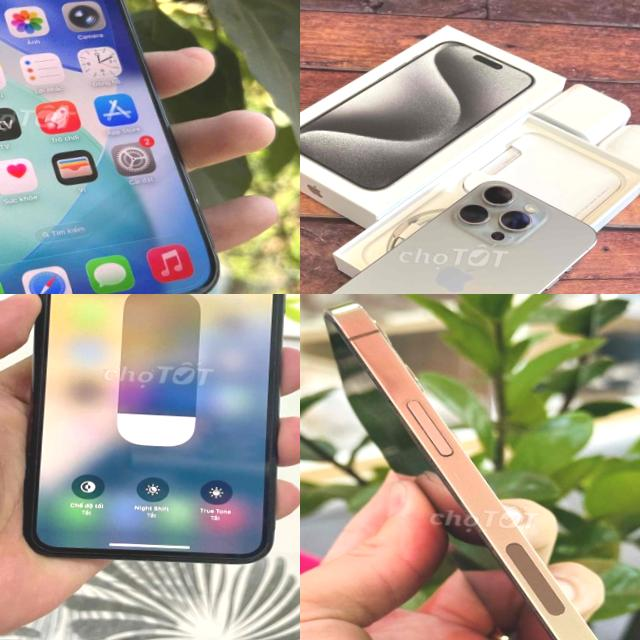gen_11: (8, 294, 300, 587)
gen_12_13: (300, 299, 640, 640)
gen_15: (0, 0, 267, 294), (300, 171, 607, 294)
